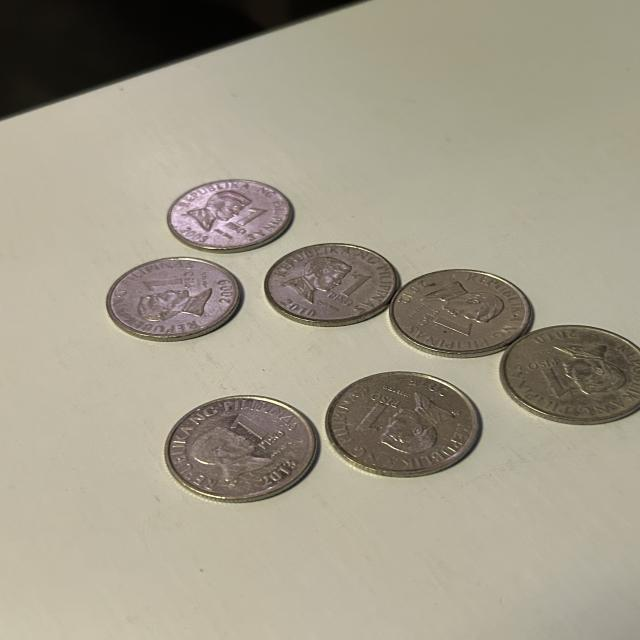1_Old_Front: (410, 307, 477, 350), (224, 408, 287, 452), (527, 350, 576, 406), (324, 268, 369, 313), (353, 395, 396, 439), (225, 206, 270, 241), (144, 272, 208, 296)
